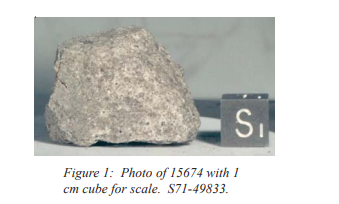Basalt: (53, 31, 191, 142)
